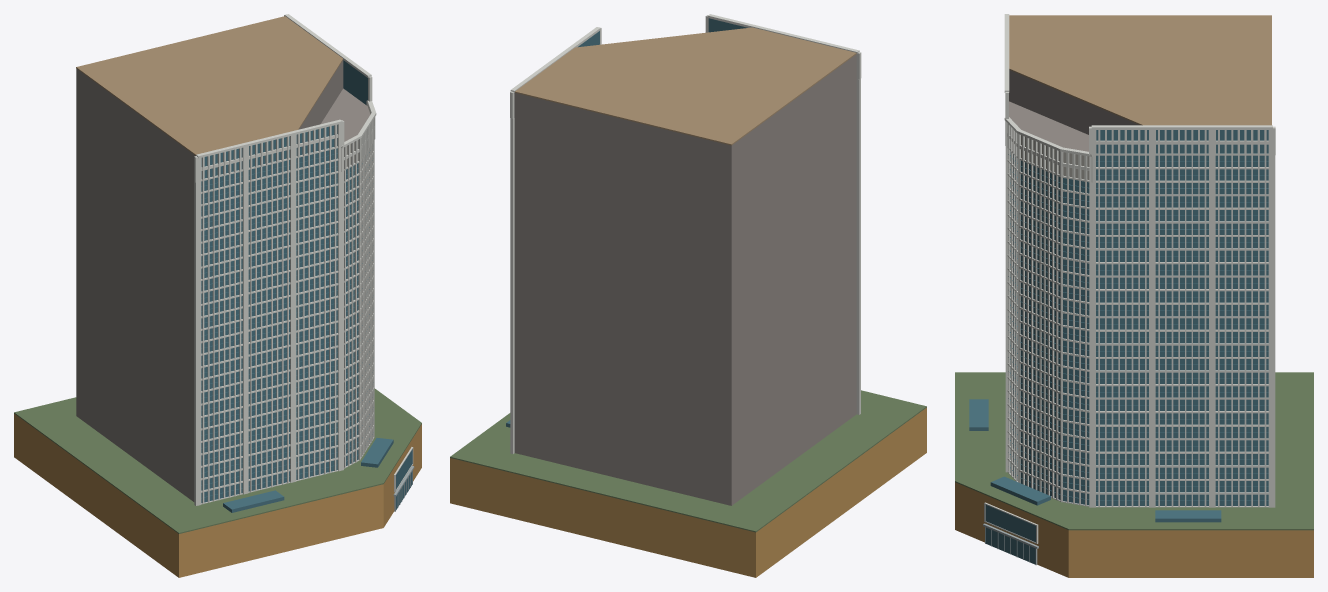
The model's file is light.glb.
3 renders of one model, left to right at view 1: azimuth 30°, elevation 25°; view 2: azimuth 150°, elevation 25°; view 3: azimuth 270°, elevation 25°, orthographic. The views are drawn at different scales.
Parts seen in each view (by area): view 1: A_vertical_00, Tower_closed_envelope_HOLD_depth, A_glass_backing, Roof_closure_HOLD, Podium_closed_mass, Terrace_surface_schematic; view 2: Tower_closed_envelope_HOLD_depth, Roof_closure_HOLD, Podium_closed_mass, Terrace_surface_schematic, A_vertical_00; view 3: A_vertical_00, A_glass_backing, Roof_closure_HOLD, Terrace_surface_schematic, Podium_closed_mass, Tower_closed_envelope_HOLD_depth, B_LEFT_crown_glass.
Boxes of the visible parts, x1,y1,x2,y2 form: A_vertical_00: (194,14,413,505); Tower_closed_envelope_HOLD_depth: (76,60,370,501); A_glass_backing: (201,60,412,512); Roof_closure_HOLD: (76,16,342,155); Podium_closed_mass: (14,413,421,577); Terrace_surface_schematic: (14,388,421,533); Tower_closed_envelope_HOLD_depth: (514,54,856,505); Roof_closure_HOLD: (515,27,856,145); Podium_closed_mass: (450,407,926,577); Terrace_surface_schematic: (450,390,926,532); A_vertical_00: (510,14,861,453); A_vertical_00: (984,14,1275,543); A_glass_backing: (969,130,1268,564); Roof_closure_HOLD: (1009,15,1271,125); Terrace_surface_schematic: (955,372,1313,530); Podium_closed_mass: (955,482,1313,577); Tower_closed_envelope_HOLD_depth: (1009,70,1139,151); B_LEFT_crown_glass: (1021,135,1089,179).
Size of the model in its own units: 62 by 79.23 by 60.
